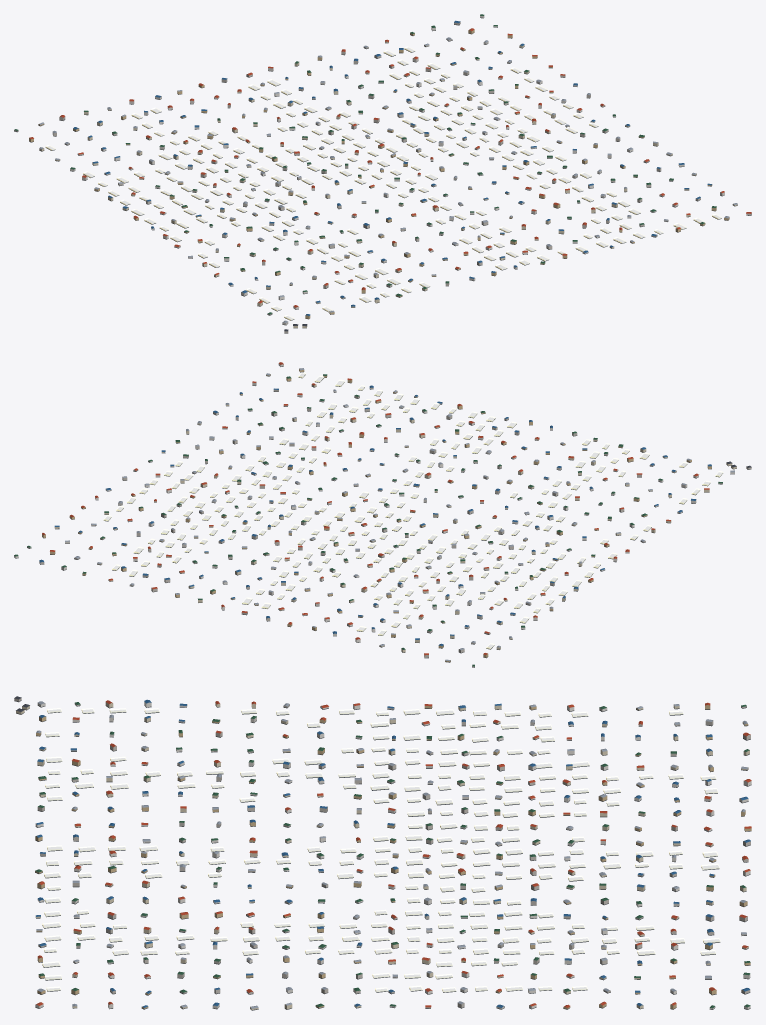
Rendered from buildings_T_E02_N03.glb.
3 renders of one model, top to bottom at view 1: azimuth 30°, elevation 25°; view 2: azimuth 150°, elevation 25°; view 3: azimuth 270°, elevation 25°, orthographic. The views are drawn at different scales.
Visible parts, largest first — view 1: T_E02_N03_roofs_agri_greenhouse_arch, T_E02_N03_slope_seating_foundations, T_E02_N03_walls_wall_modern_warm_white, T_E02_N03_walls_wall_pastel_sand_gray, T_E02_N03_walls_wall_french_ochre_villa, T_E02_N03_walls_wall_dalat_cream_stucco, T_E02_N03_roofs_roof_terracotta_gable, T_E02_N03_roofs_roof_zinc_silver_gable, T_E02_N03_roofs_roof_pine_green_hip, T_E02_N03_roofs_roof_highland_blue_gable; view 2: T_E02_N03_roofs_agri_greenhouse_arch, T_E02_N03_slope_seating_foundations, T_E02_N03_walls_wall_modern_warm_white, T_E02_N03_walls_wall_pastel_sand_gray, T_E02_N03_walls_wall_french_ochre_villa, T_E02_N03_walls_wall_dalat_cream_stucco, T_E02_N03_roofs_roof_terracotta_gable, T_E02_N03_roofs_roof_zinc_silver_gable, T_E02_N03_roofs_roof_pine_green_hip, T_E02_N03_roofs_roof_highland_blue_gable; view 3: T_E02_N03_roofs_agri_greenhouse_arch, T_E02_N03_slope_seating_foundations, T_E02_N03_walls_wall_modern_warm_white, T_E02_N03_walls_wall_french_ochre_villa, T_E02_N03_walls_wall_pastel_sand_gray, T_E02_N03_walls_wall_dalat_cream_stucco, T_E02_N03_roofs_roof_terracotta_gable, T_E02_N03_roofs_roof_zinc_silver_gable, T_E02_N03_roofs_roof_highland_blue_gable, T_E02_N03_roofs_roof_pine_green_hip.
Boxes of the visible parts, box(x1,y1,x2,y2) form: T_E02_N03_roofs_agri_greenhouse_arch: box(45, 46, 721, 320); T_E02_N03_slope_seating_foundations: box(14, 17, 751, 333); T_E02_N03_walls_wall_modern_warm_white: box(70, 16, 751, 324); T_E02_N03_walls_wall_pastel_sand_gray: box(14, 22, 700, 333); T_E02_N03_walls_wall_french_ochre_villa: box(29, 29, 729, 318); T_E02_N03_walls_wall_dalat_cream_stucco: box(39, 41, 737, 327); T_E02_N03_roofs_roof_terracotta_gable: box(29, 28, 751, 307); T_E02_N03_roofs_roof_zinc_silver_gable: box(39, 37, 737, 322); T_E02_N03_roofs_roof_pine_green_hip: box(14, 14, 716, 314); T_E02_N03_roofs_roof_highland_blue_gable: box(73, 20, 711, 315); T_E02_N03_roofs_agri_greenhouse_arch: box(103, 372, 723, 648); T_E02_N03_slope_seating_foundations: box(14, 365, 751, 667); T_E02_N03_walls_wall_modern_warm_white: box(14, 363, 734, 642); T_E02_N03_walls_wall_pastel_sand_gray: box(39, 387, 751, 667); T_E02_N03_walls_wall_french_ochre_villa: box(42, 369, 711, 661); T_E02_N03_walls_wall_dalat_cream_stucco: box(54, 374, 736, 652); T_E02_N03_roofs_roof_terracotta_gable: box(42, 362, 709, 655); T_E02_N03_roofs_roof_zinc_silver_gable: box(65, 368, 734, 661); T_E02_N03_roofs_roof_pine_green_hip: box(14, 374, 722, 666); T_E02_N03_roofs_roof_highland_blue_gable: box(39, 385, 711, 646); T_E02_N03_roofs_agri_greenhouse_arch: box(42, 708, 720, 992); T_E02_N03_slope_seating_foundations: box(14, 700, 751, 1010); T_E02_N03_walls_wall_modern_warm_white: box(35, 702, 751, 1009); T_E02_N03_walls_wall_french_ochre_villa: box(35, 705, 751, 1009); T_E02_N03_walls_wall_pastel_sand_gray: box(14, 698, 750, 1008); T_E02_N03_walls_wall_dalat_cream_stucco: box(16, 702, 749, 1009); T_E02_N03_roofs_roof_terracotta_gable: box(36, 700, 751, 1007); T_E02_N03_roofs_roof_zinc_silver_gable: box(36, 701, 747, 1008); T_E02_N03_roofs_roof_highland_blue_gable: box(36, 699, 750, 1007); T_E02_N03_roofs_roof_pine_green_hip: box(35, 702, 750, 1008).
Bounding box in the file's own units: 1813 × 31.32 × 1843.
